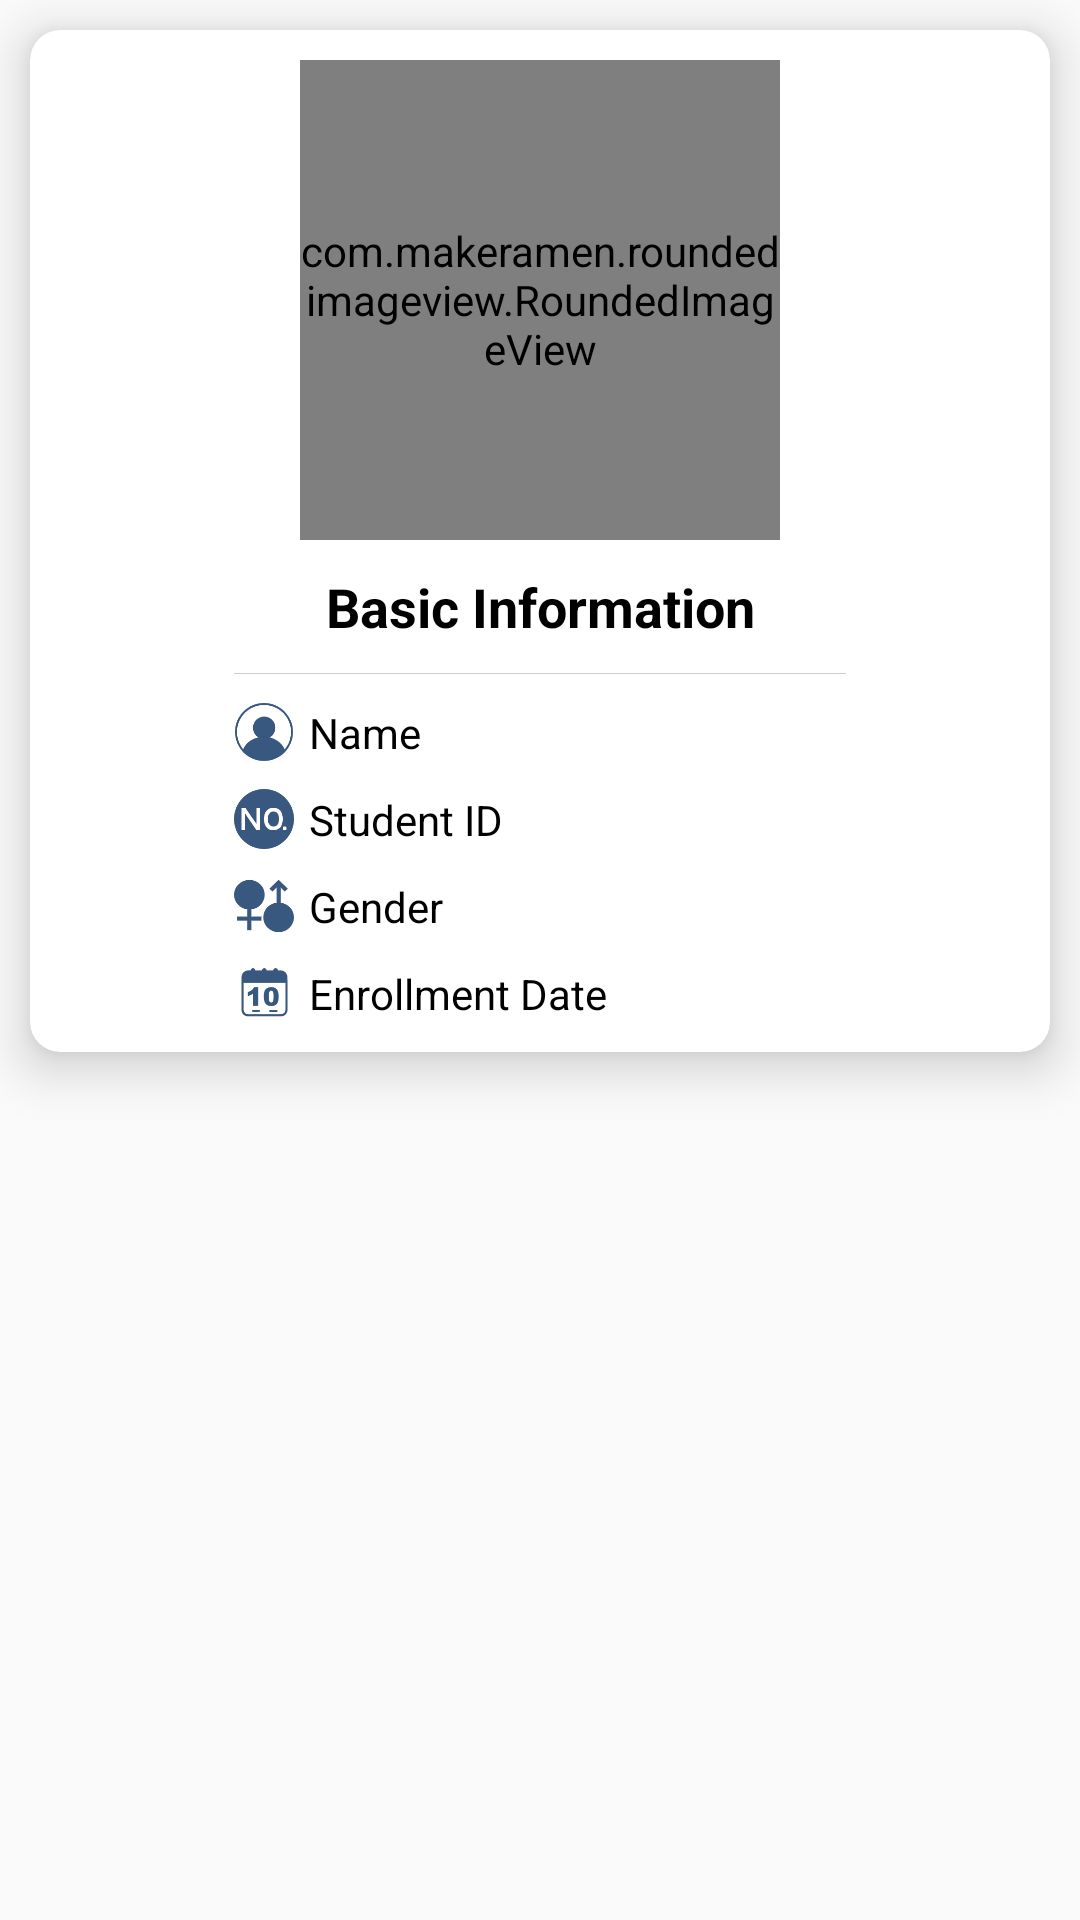

Point at icon controls on the screen. Image size 1080*1920, points as (x=x, y=y).
riqi: (x=264, y=992)
